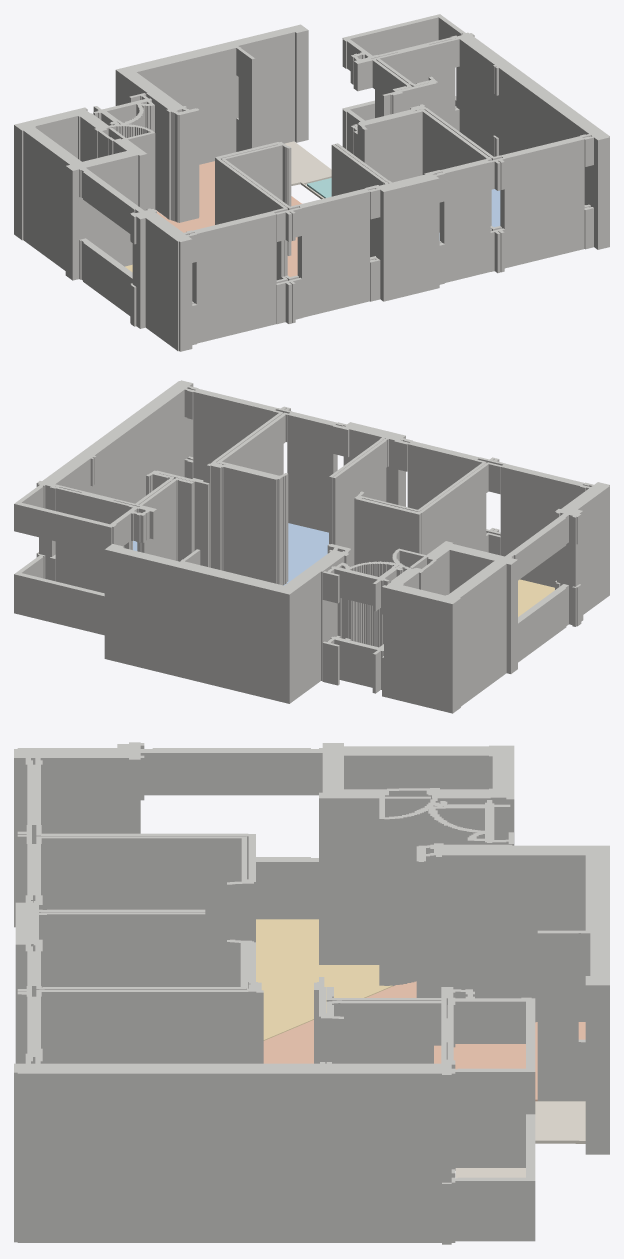
3 views of the same model, one above another, from view 1: azimuth 30°, elevation 25°; view 2: azimuth 150°, elevation 25°; view 3: azimuth 270°, elevation 25° (orthographic). The views are drawn at different scales.
Visible parts, largest first — view 1: walls, room:kitchen:0, room:other:5; view 2: walls, room:bedroom:4, room:living:3; view 3: walls, room:living:3, room:kitchen:0, room:other:5, room:other:6.
Boxes of the visible parts, left/top/right/bottom form: walls: left=14, top=14, right=609, bottom=351; room:kitchen:0: left=155, top=161, right=301, bottom=276; room:other:5: left=284, top=141, right=331, bottom=199; walls: left=14, top=380, right=609, bottom=713; room:bedroom:4: left=133, top=523, right=328, bottom=585; room:living:3: left=518, top=579, right=554, bottom=616; walls: left=14, top=742, right=609, bottom=1244; room:living:3: left=256, top=919, right=392, bottom=1040; room:kitchen:0: left=263, top=981, right=585, bottom=1101; room:other:5: left=535, top=1101, right=585, bottom=1143; room:other:6: left=455, top=1168, right=525, bottom=1178.
Size of the model in its own units: 11.79 by 2.8 by 8.93.
